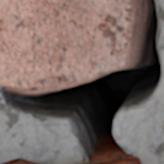brick: (0, 0, 136, 90), (94, 155, 139, 163), (4, 159, 34, 163)
crack: (1, 0, 163, 163)
